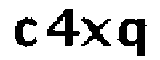4: (44, 7, 81, 50)
c: (11, 16, 39, 47)
q: (118, 15, 150, 60)
x: (82, 16, 111, 49)
